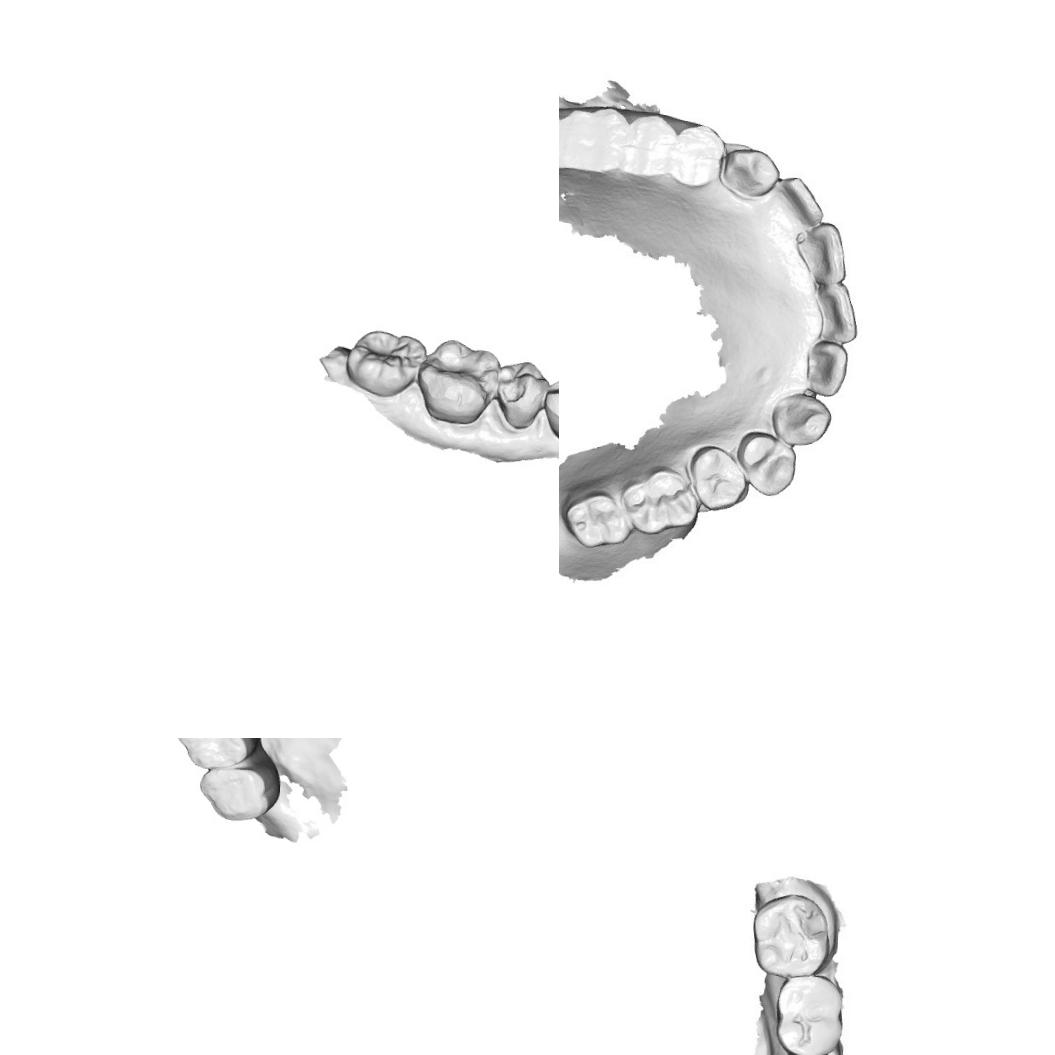canine: (766, 391, 834, 444), (721, 145, 780, 199)
incisor: (802, 219, 852, 282), (776, 171, 820, 229), (816, 286, 856, 342), (805, 338, 845, 393)
molar: (414, 336, 501, 426), (340, 323, 426, 402), (750, 900, 831, 980), (196, 752, 282, 824), (775, 977, 843, 1055), (622, 464, 694, 536), (560, 105, 630, 171), (564, 488, 629, 546), (170, 738, 262, 771)
premolar: (492, 356, 550, 434), (734, 433, 794, 495), (690, 446, 742, 506), (628, 114, 674, 178), (672, 124, 718, 184), (539, 374, 559, 444)
